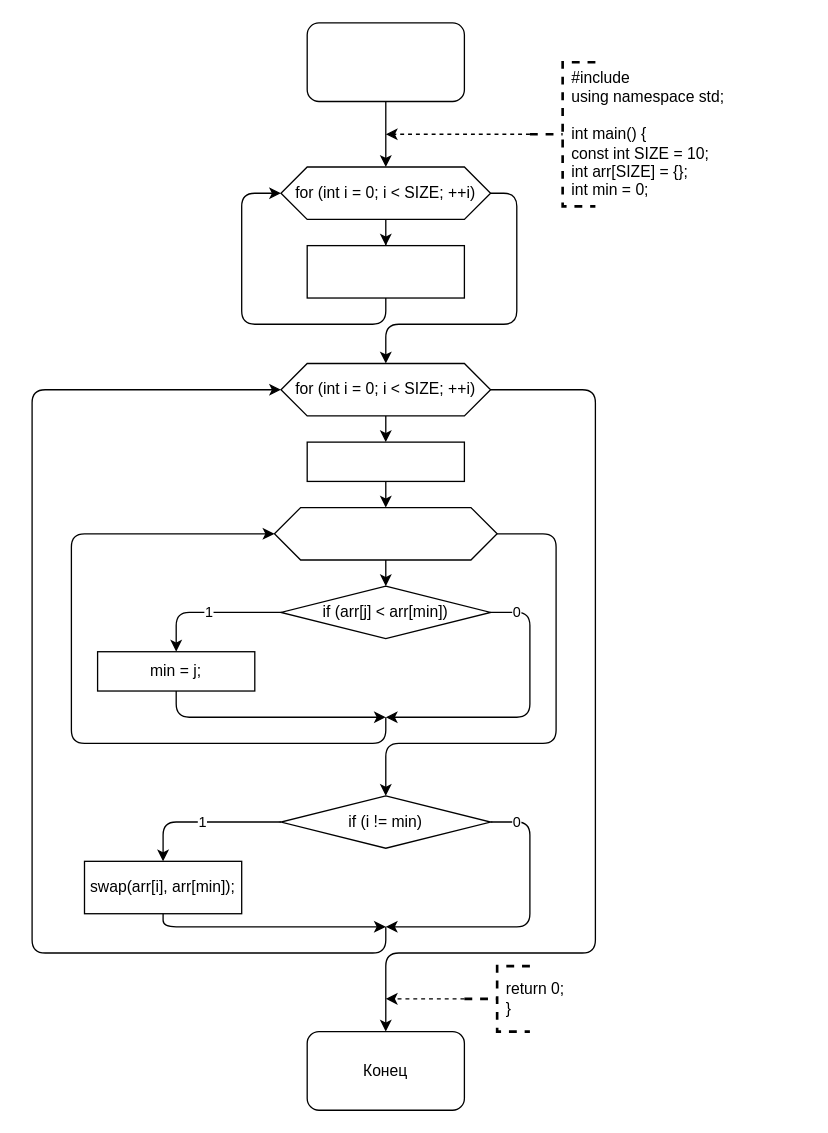
This 828x1133 diagram has some shape labels left out. Each missing label, with the centre of its shape:
"arr[i] = rand() % 100;" goes at (385,271).
"for (int j = i + 1; j < SIZE; ++j)" goes at (385,533).
"min = i;" goes at (385,461).
"Начало" goes at (385,62).
